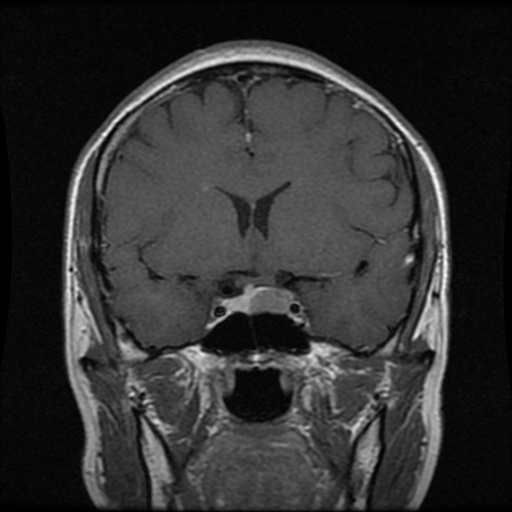pituitary: (230, 283, 293, 314)
